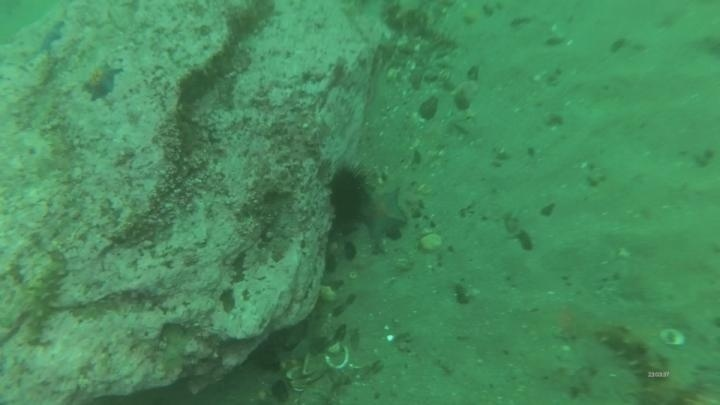echinus: (325, 164, 371, 228)
holothurian: (594, 320, 670, 388), (19, 249, 69, 345)
starfish: (358, 183, 408, 242), (78, 58, 124, 102), (34, 19, 68, 55)
